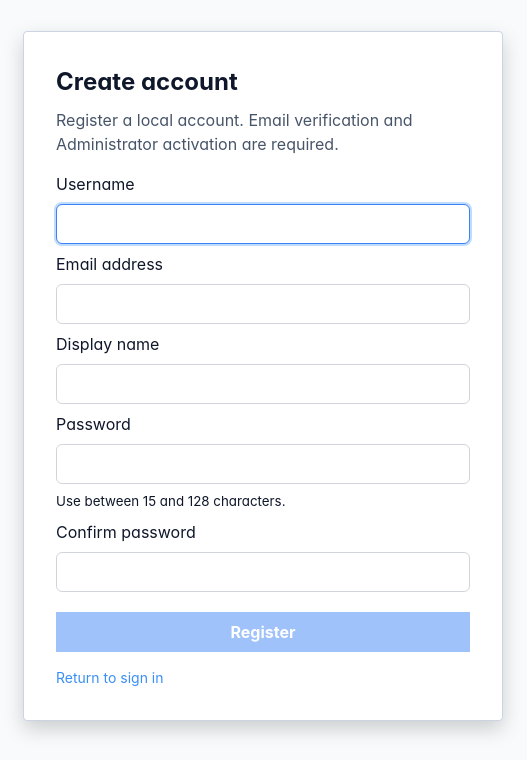
it: RegistrationPage › does not expose backend account details when registration fails
In the field labelled "Username": coordinates (263, 224) [56,204,470,244], type "  alice  "
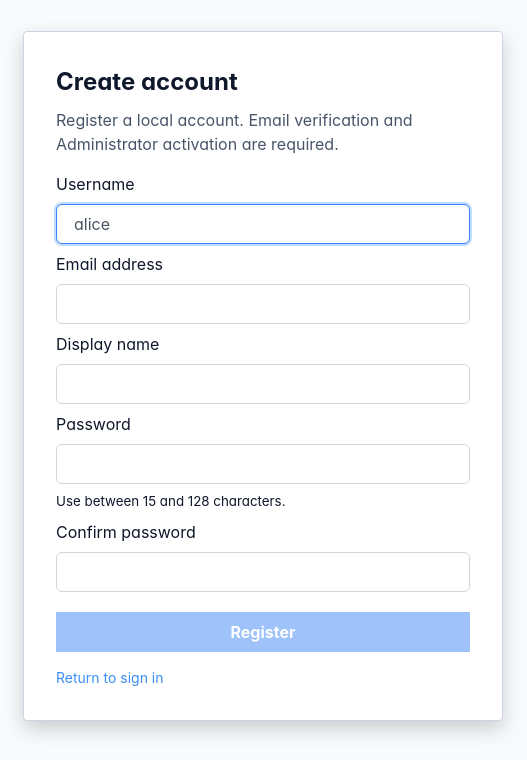
In the field labelled "Email address": coordinates (263, 304) [56,284,470,324], type "  ALICE@Example.org  "
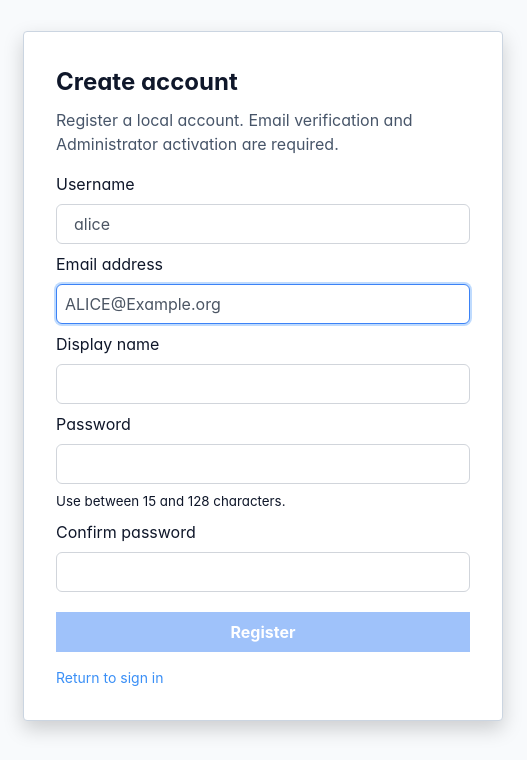
In the field labelled "Display name": coordinates (263, 384) [56,364,470,404], type "  Alice Example  "
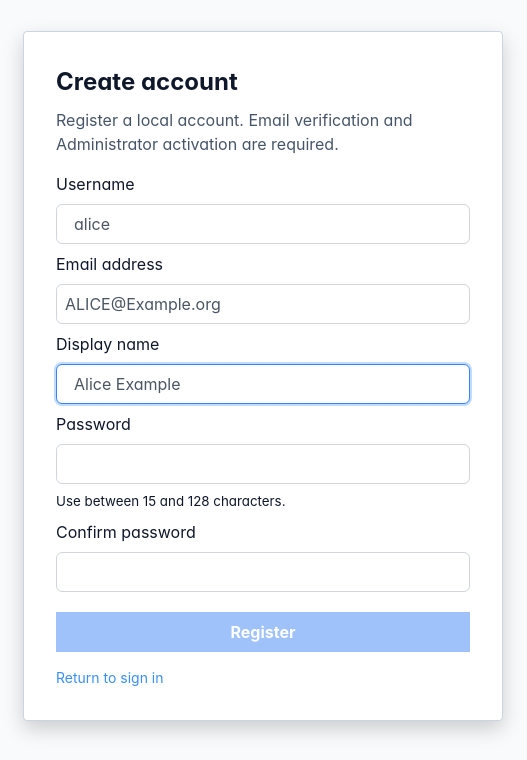
In the password field labelled "Password": coordinates (263, 464) [56,444,470,484], type "correct horse battery staple"
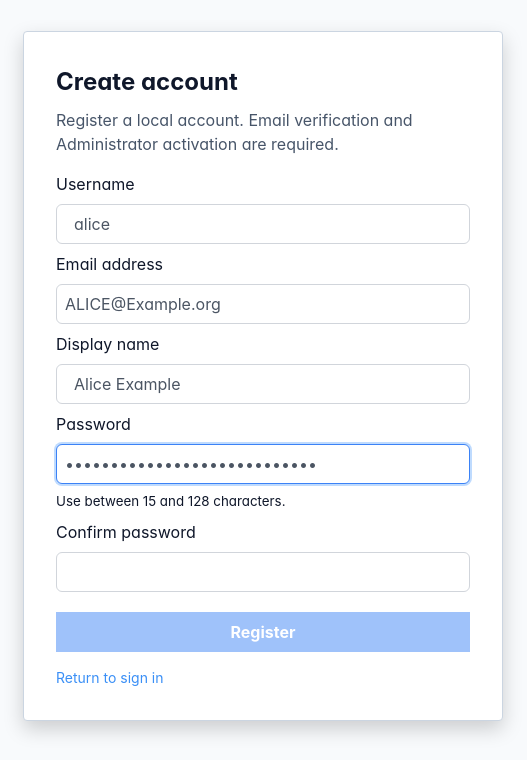
In the password field labelled "Confirm password": coordinates (263, 572) [56,552,470,592], type "correct horse battery staple"
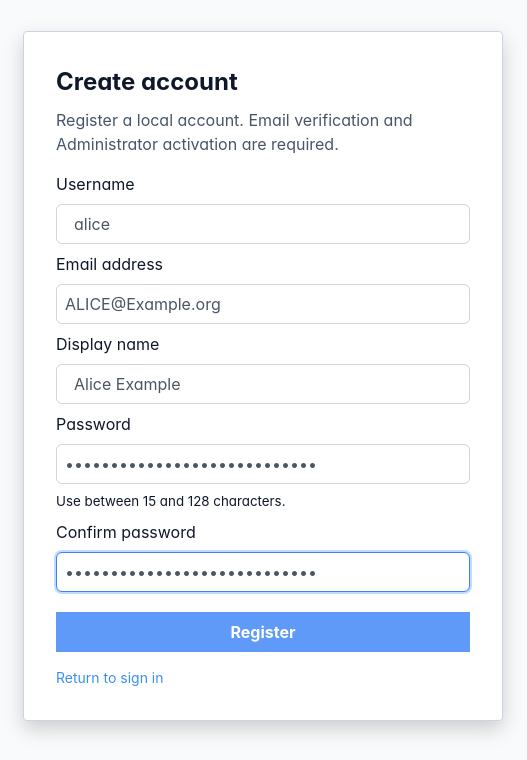
Click the button "Register": coordinates (263, 632) [56,612,470,652]
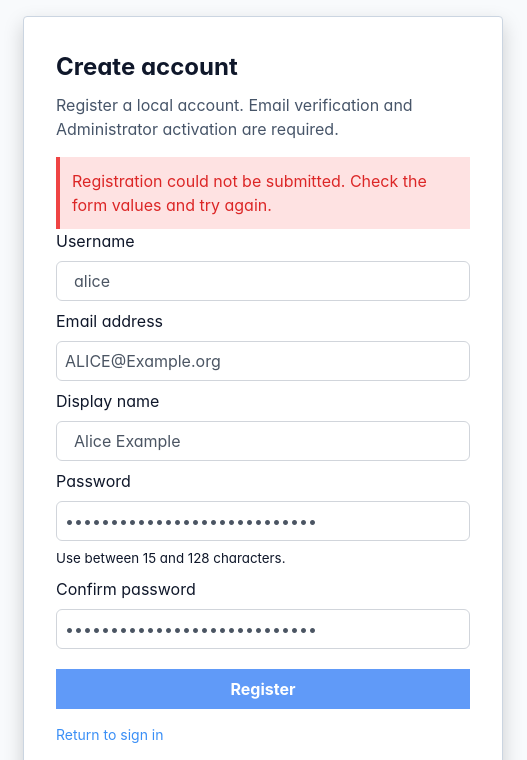
Now the message shows "Registration could not be submitted", box [72,171,427,215]
